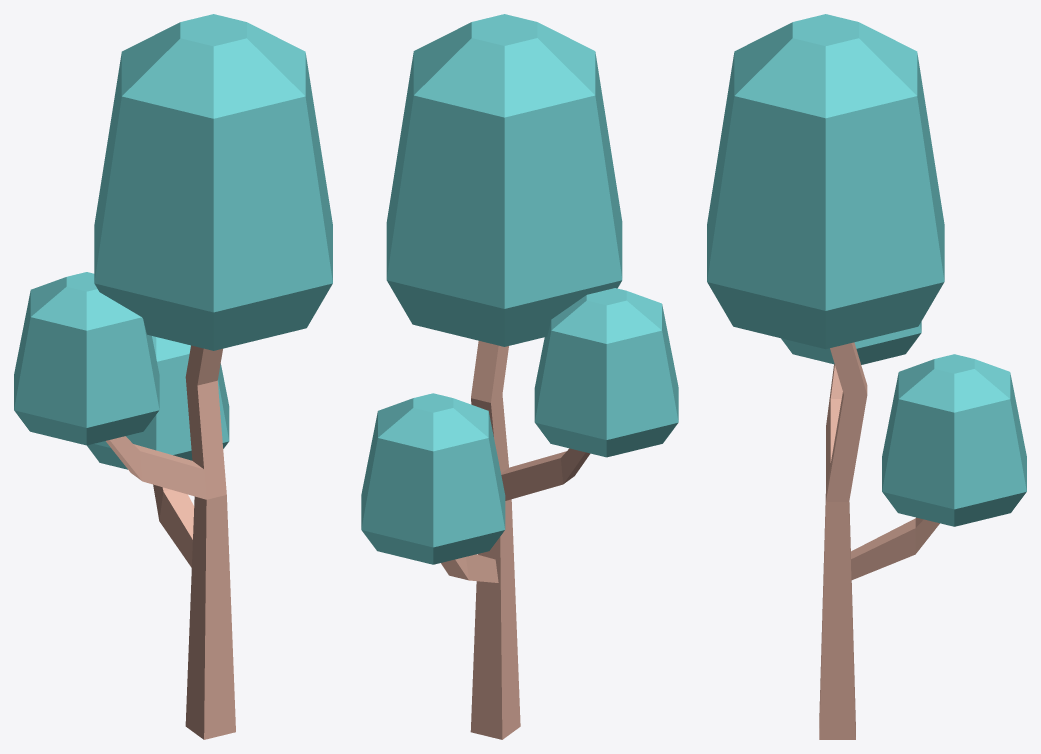
File: tree_thin_dark.gltf
3 views of the same model, side by side, from view 1: azimuth 30°, elevation 25°; view 2: azimuth 150°, elevation 25°; view 3: azimuth 270°, elevation 25° (orthographic).
Parts seen in each view (by area): view 1: tree_thin_dark; view 2: tree_thin_dark; view 3: tree_thin_dark.
Boxes of the visible parts, left/top/right/bottom form: tree_thin_dark: left=14, top=14, right=332, bottom=739; tree_thin_dark: left=361, top=14, right=678, bottom=739; tree_thin_dark: left=707, top=14, right=1026, bottom=739.
Bounding box in the file's own units: 0.6804 × 1.49 × 0.6165.
